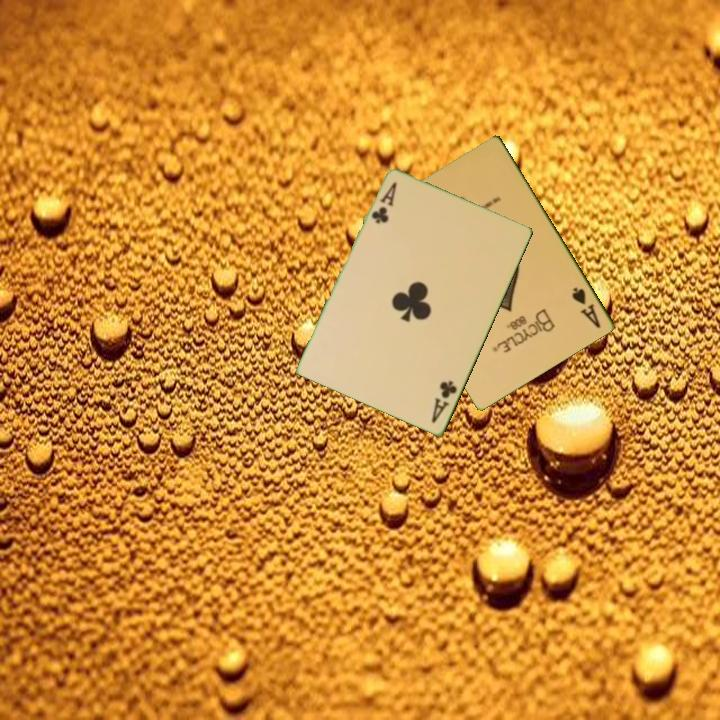Ac: (428, 377, 460, 426), (368, 179, 400, 227)
As: (568, 284, 604, 331)
